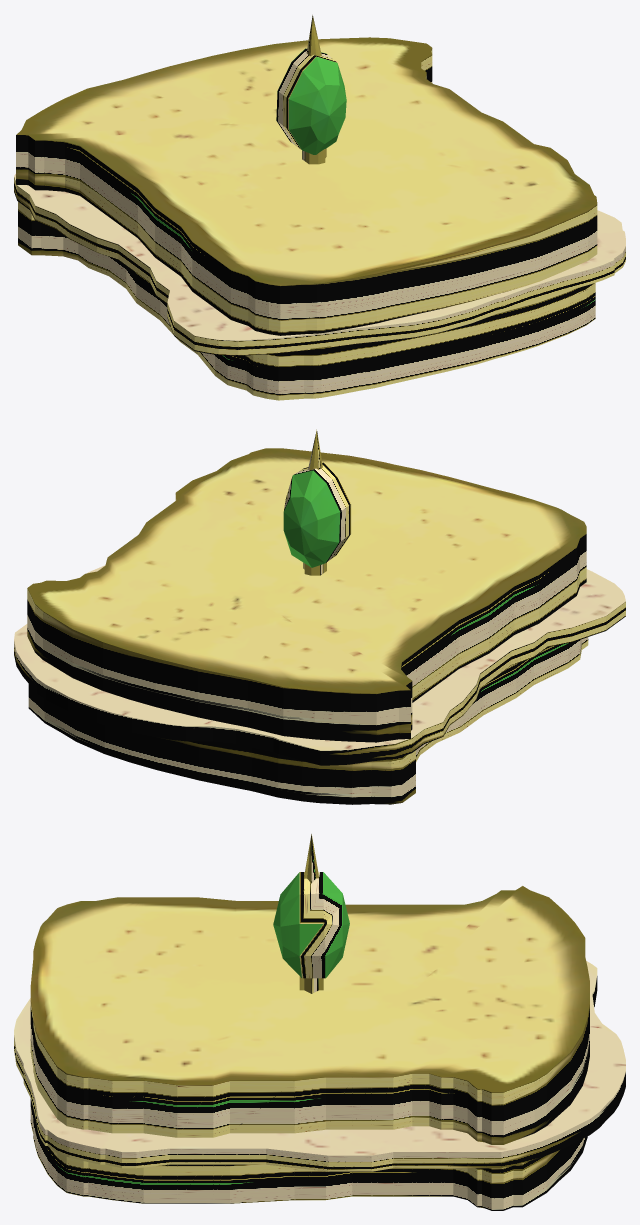
File: InvTofu.glb
3 renders of one model, top to bottom at view 1: azimuth 30°, elevation 25°; view 2: azimuth 150°, elevation 25°; view 3: azimuth 270°, elevation 25°, orthographic. The views are drawn at different scales.
Parts seen in each view (by area): view 1: InvTofu; view 2: InvTofu; view 3: InvTofu.
Boxes of the visible parts, <box> form: InvTofu: <box>14,15,625,400</box>; InvTofu: <box>14,429,625,804</box>; InvTofu: <box>14,834,625,1210</box>.
Bounding box in the file's own units: 32.76 × 18.37 × 37.17.
Materials: 1 (1 with a texture image).
